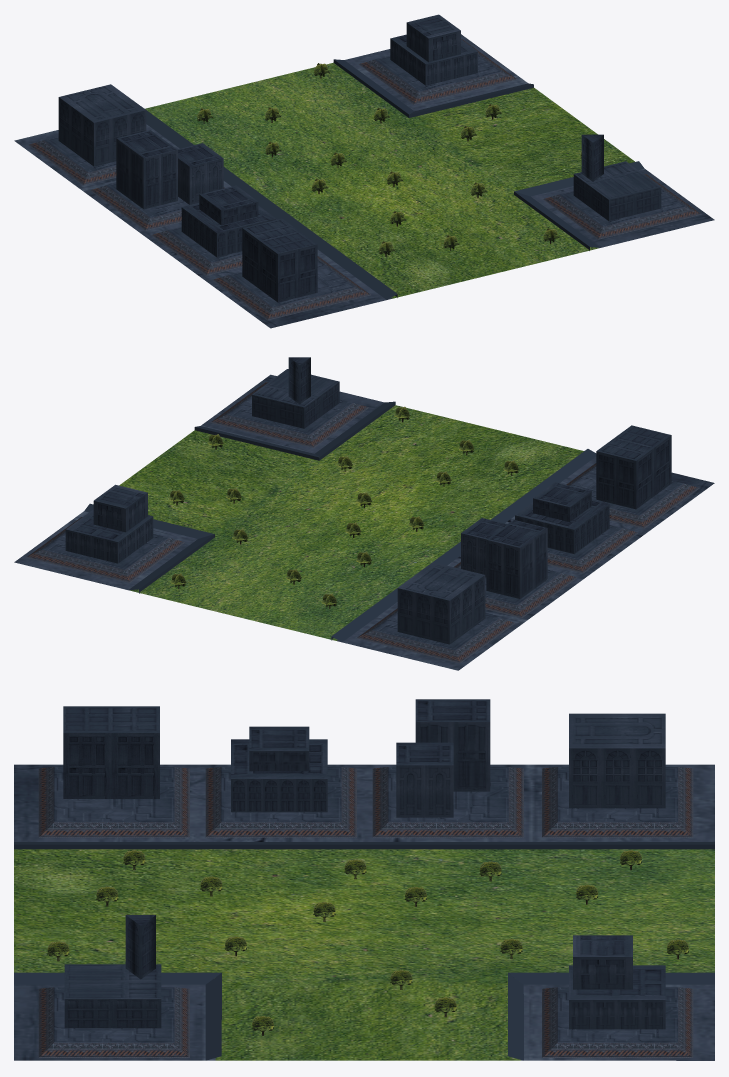
File: Parkblok3.FBX
The picture shows the model from 3 angles, top to bottom: view 1: azimuth 30°, elevation 25°; view 2: azimuth 150°, elevation 25°; view 3: azimuth 270°, elevation 25°; orthographic projection. The views are drawn at different scales.
Parts seen in each view (by area): view 1: polySurface08; view 2: polySurface08; view 3: polySurface08.
Part boxes in pixels (x1,y1,x2,y2): polySurface08: (14, 14, 714, 328); polySurface08: (14, 357, 714, 670); polySurface08: (14, 699, 714, 1060).
Size of the model in its own units: 43.8 by 6.46 by 43.79.
Materials: 3 (3 with a texture image).
